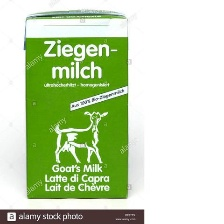carton: (21, 6, 134, 201)
